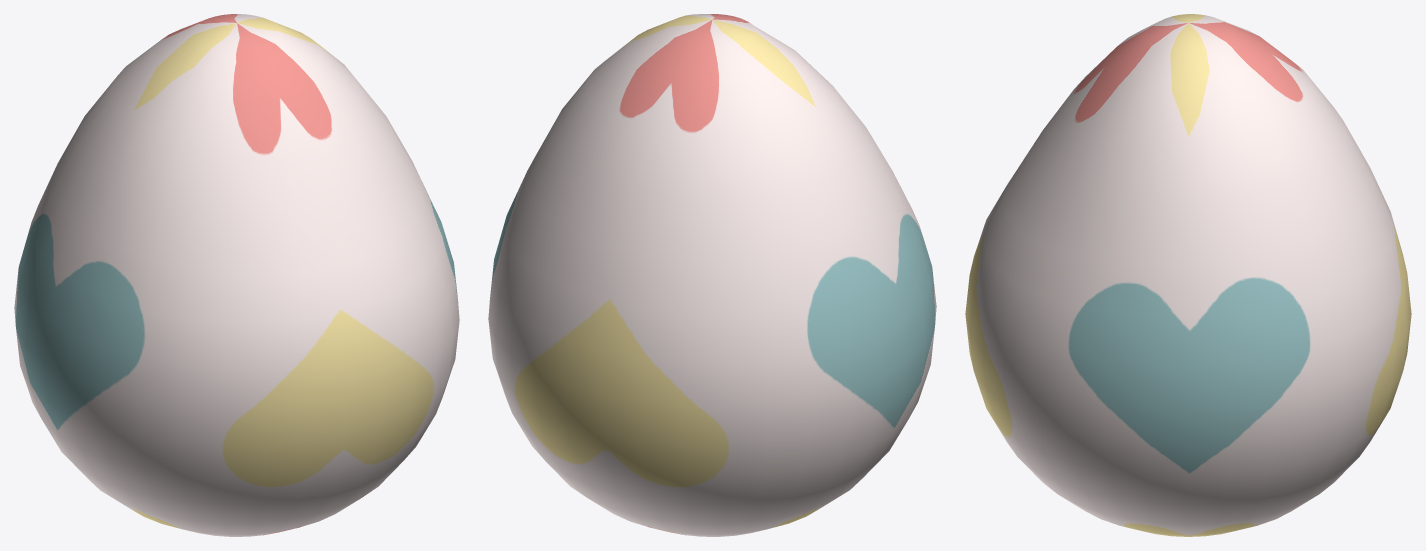
Rendered from heart_egg.glb.
3 views of the same model, side by side, from view 1: azimuth 30°, elevation 25°; view 2: azimuth 150°, elevation 25°; view 3: azimuth 270°, elevation 25° (orthographic).
Visible parts, largest first — view 1: Sphere; view 2: Sphere; view 3: Sphere.
Part boxes in pixels (x1,y1,x2,y2): Sphere: [14, 14, 459, 536]; Sphere: [488, 14, 936, 536]; Sphere: [965, 14, 1411, 536].
Bounding box in the file's own units: 2 × 2.44 × 2.
Materials: 1 (1 with a texture image).
